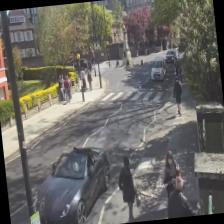person: (162, 149, 186, 218), (164, 174, 200, 218), (116, 156, 138, 224), (171, 76, 185, 116)
